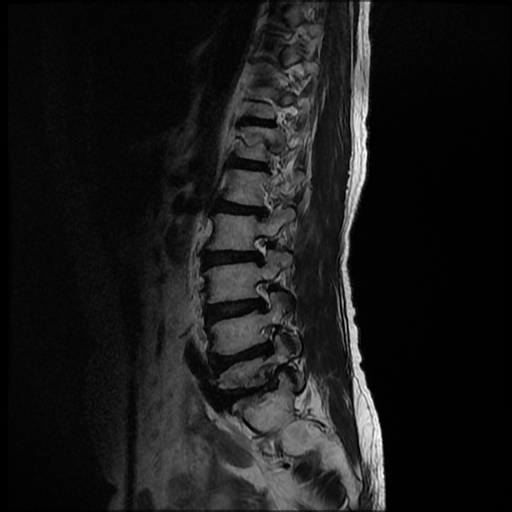LFS0: (238, 227, 278, 272), (243, 272, 282, 318)
LFS2: (246, 318, 285, 359)
